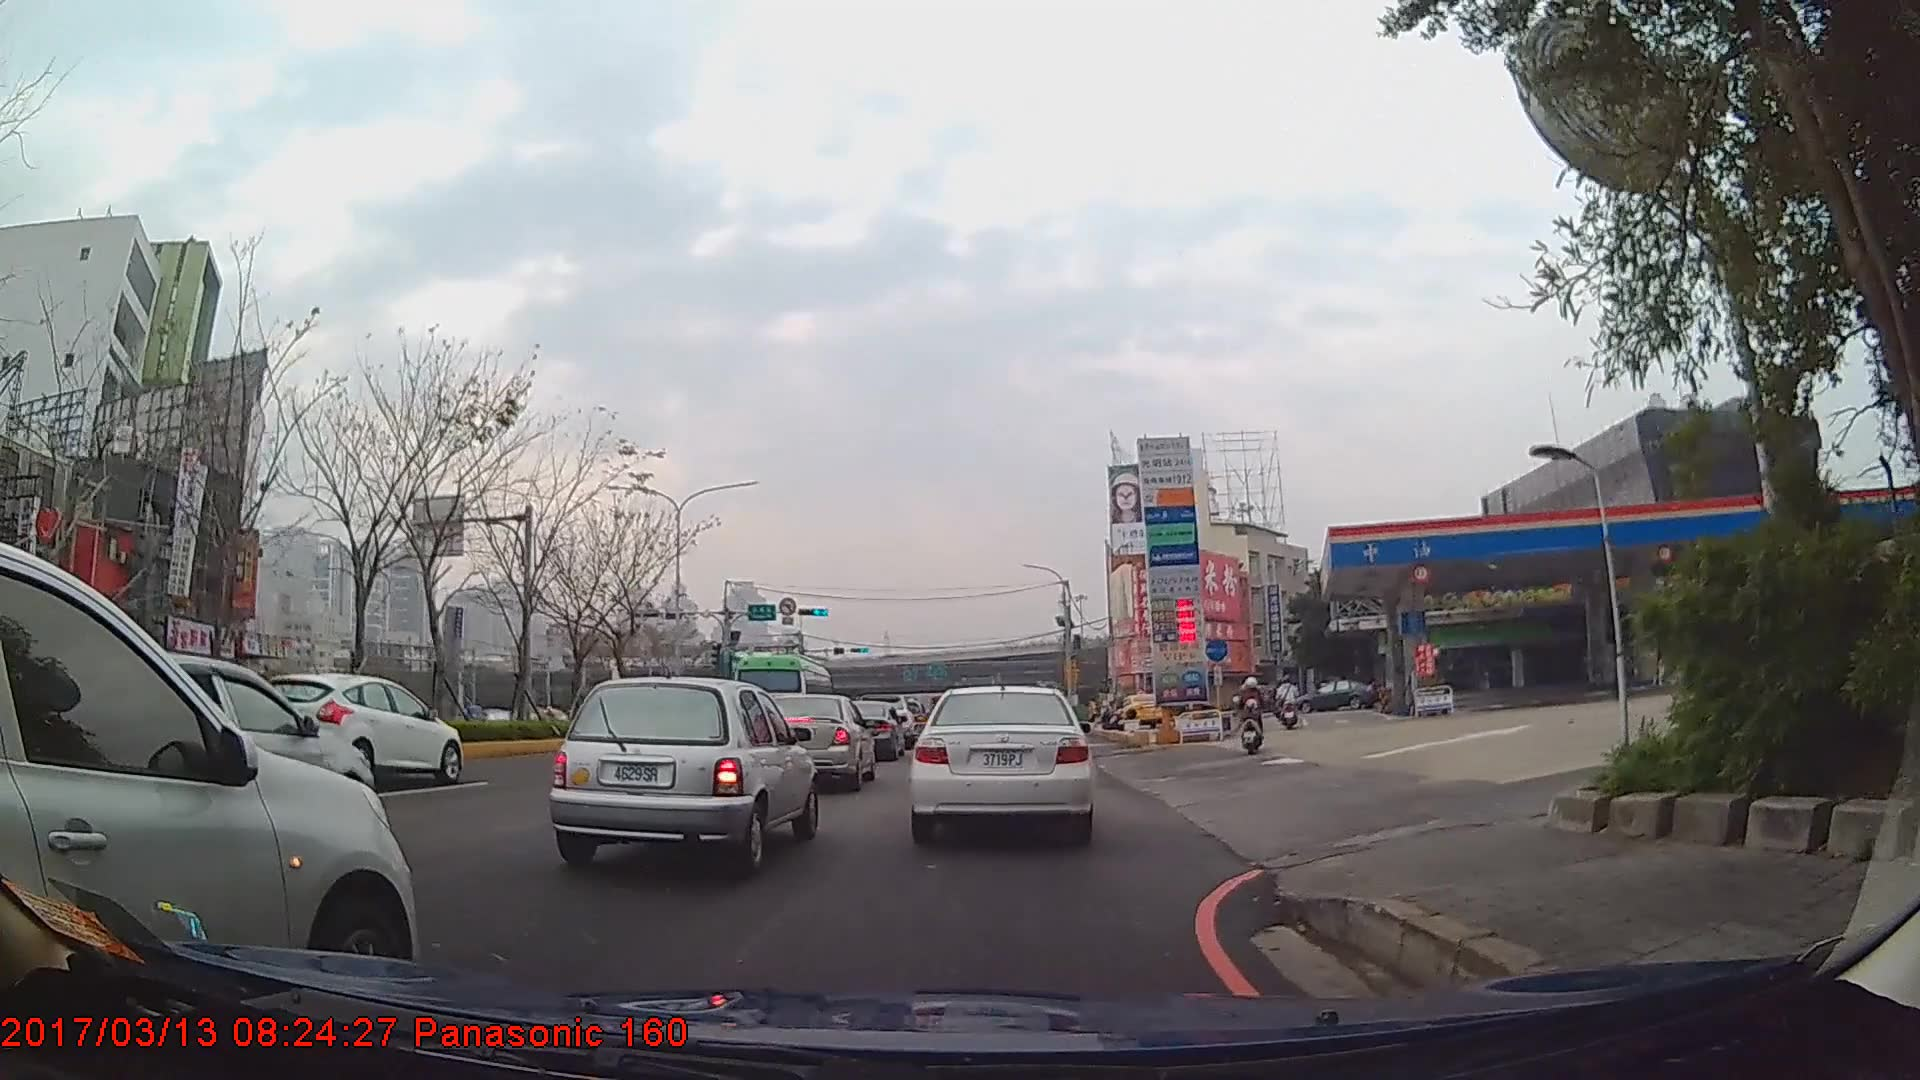rider: (1235, 674, 1267, 753), (1277, 677, 1301, 730)
vehicle: (0, 540, 419, 1015), (547, 670, 816, 874), (911, 681, 1093, 844), (247, 670, 463, 784), (748, 690, 873, 790), (728, 649, 831, 737), (829, 697, 905, 763), (1295, 675, 1377, 709), (1114, 689, 1164, 724)
